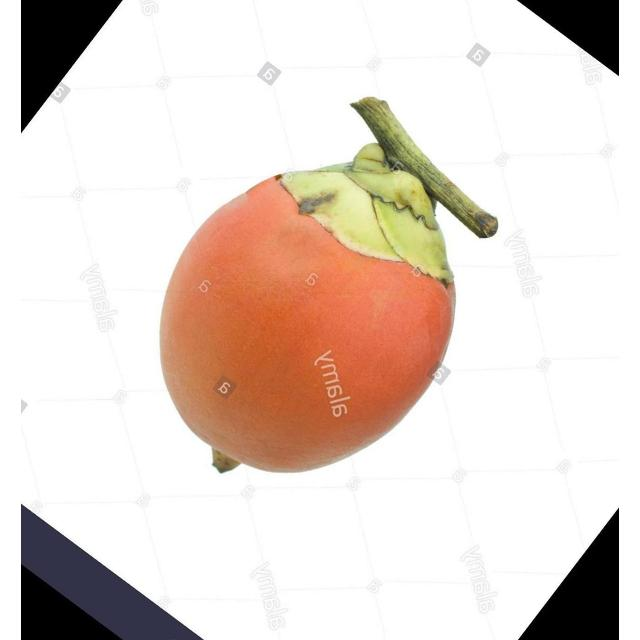good: (158, 97, 499, 477)
